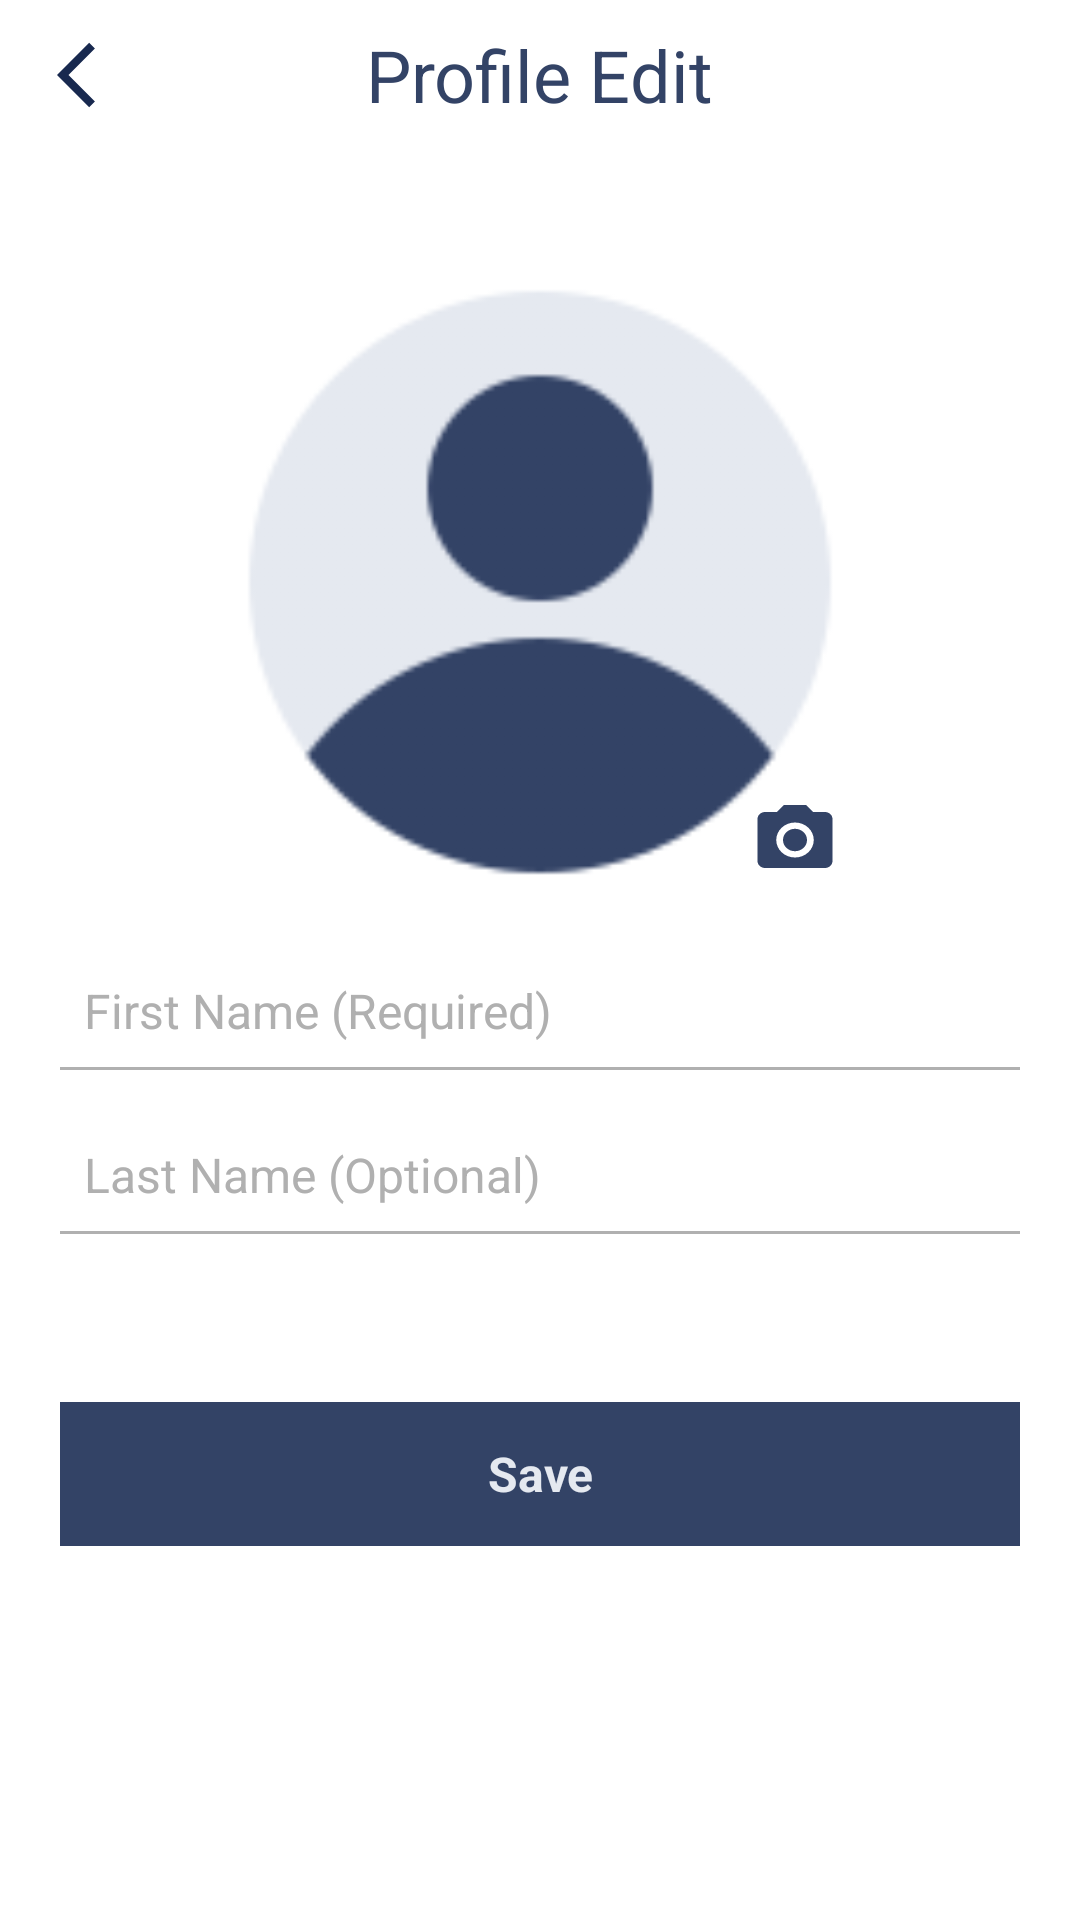

Screen size 1080px x 1920px. Icon name, then its center in pixels as (x,y):
arrow back: (76,75)
